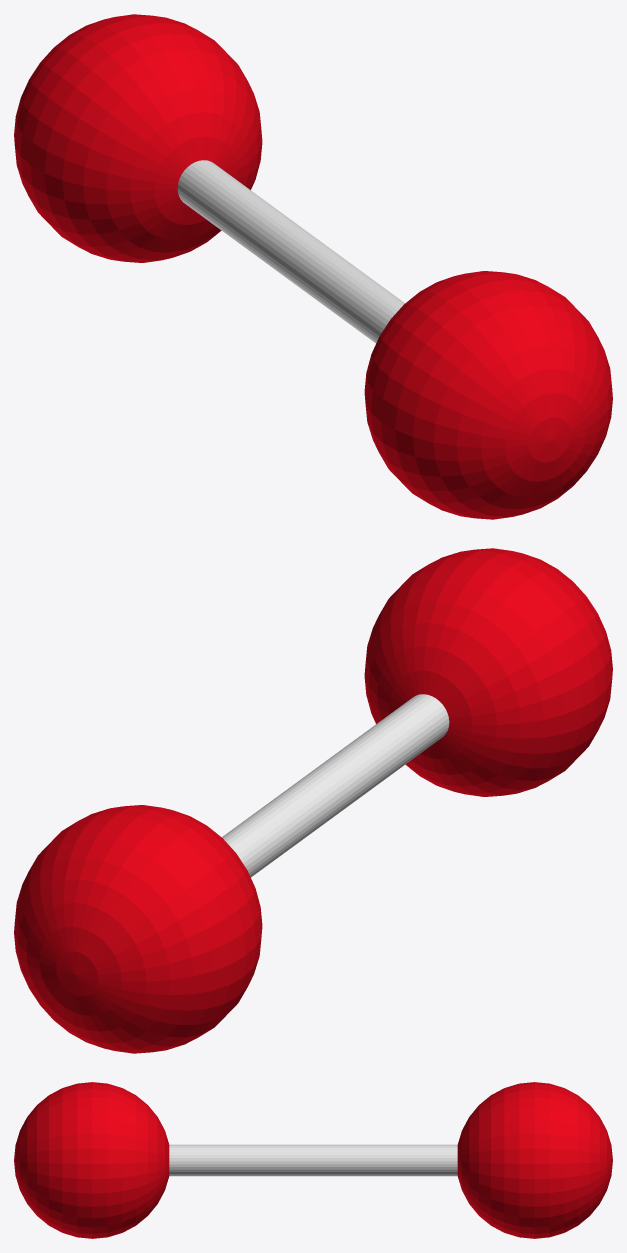
The model's file is DuzAynı.gltf.
3 views of the same model, one above another, from view 1: azimuth 30°, elevation 25°; view 2: azimuth 150°, elevation 25°; view 3: azimuth 270°, elevation 25° (orthographic). The views are drawn at different scales.
Parts seen in each view (by area): view 1: Sphere, Sphere.001, Cylinder.001; view 2: Sphere.001, Sphere, Cylinder.001; view 3: Sphere, Sphere.001, Cylinder.001.
Boxes of the visible parts, box(x1,y1,x2,y2) form: Sphere: box(364, 271, 612, 519); Sphere.001: box(14, 14, 262, 262); Cylinder.001: box(177, 160, 404, 343); Sphere.001: box(14, 805, 262, 1053); Sphere: box(364, 548, 612, 796); Cylinder.001: box(222, 694, 449, 877); Sphere: box(14, 1082, 169, 1238); Sphere.001: box(457, 1082, 612, 1238); Cylinder.001: box(169, 1144, 457, 1176).
Bounding box in the file's own units: 1.5 × 1.5 × 5.72.
